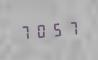five: (48, 20, 62, 38)
seven: (18, 22, 32, 41), (63, 18, 77, 37)
zero: (33, 21, 47, 40)
